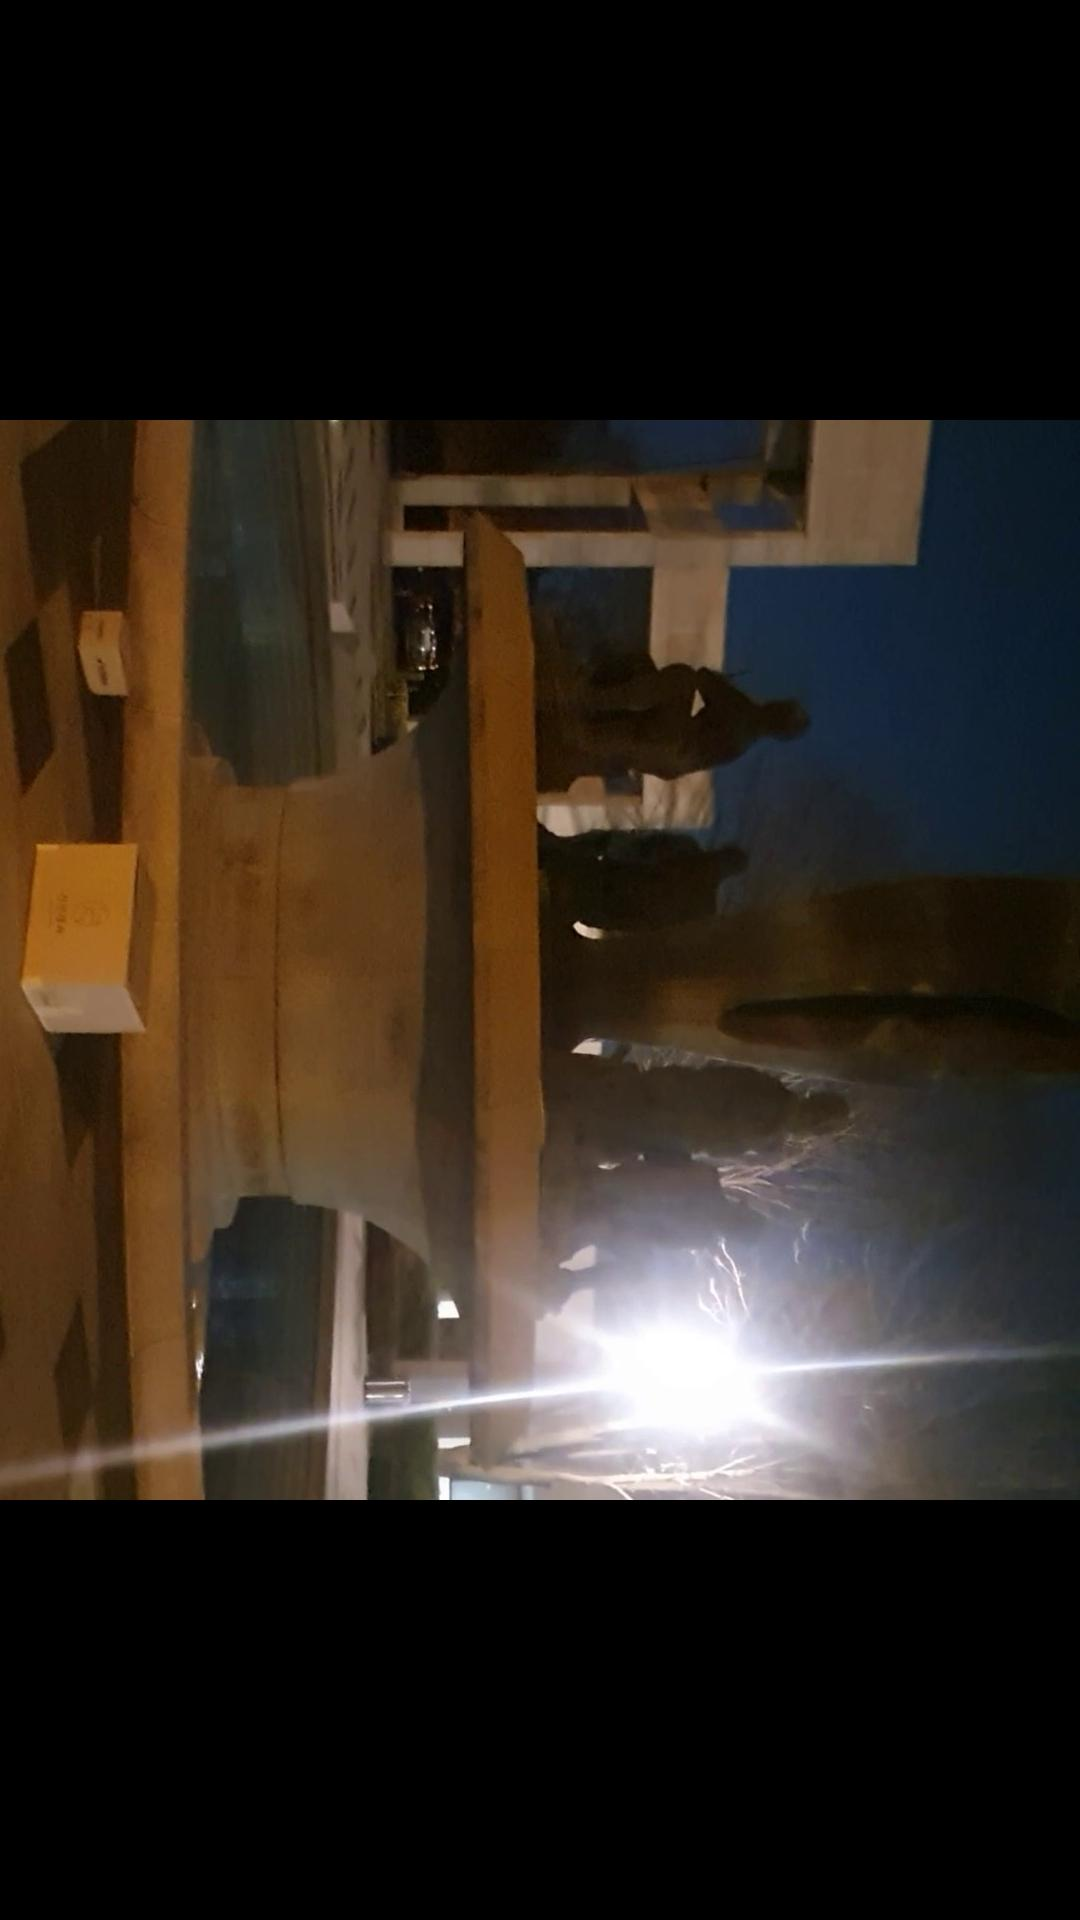Box: (0, 808, 171, 1058), (69, 616, 145, 698)
